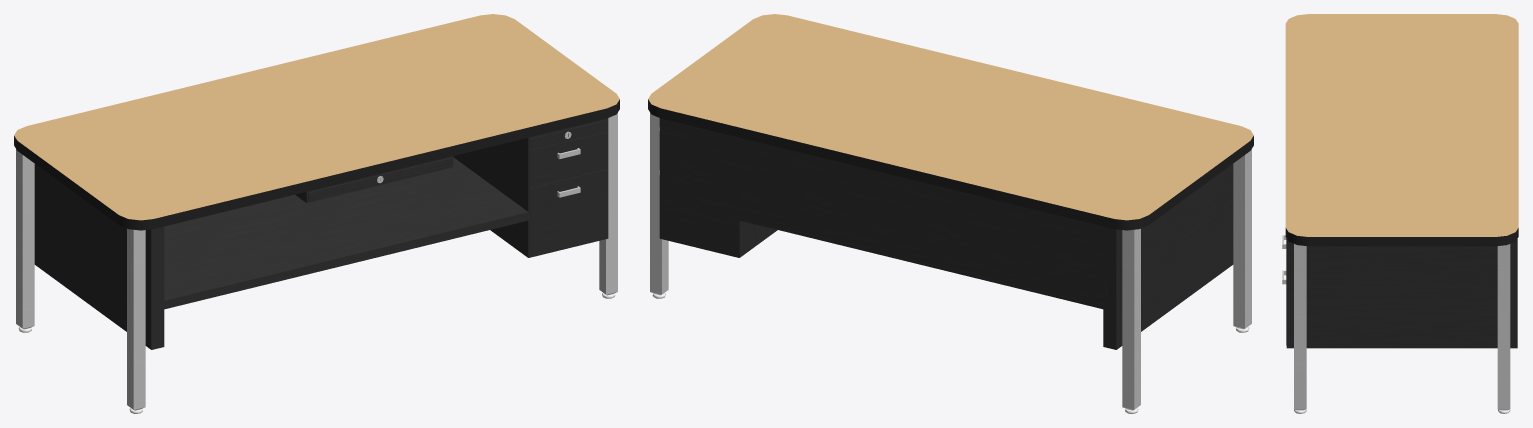
Rendered from desk.fbx.
3 views of the same model, side by side, from view 1: azimuth 30°, elevation 25°; view 2: azimuth 150°, elevation 25°; view 3: azimuth 270°, elevation 25° (orthographic). The views are drawn at different scales.
Visible parts, largest first — view 1: desk_lo; view 2: desk_lo; view 3: desk_lo.
Boxes of the visible parts, x1,y1,x2,y2 form: desk_lo: [14, 14, 619, 413]; desk_lo: [648, 14, 1253, 413]; desk_lo: [1282, 14, 1518, 413].
Bounding box in the file's own units: 3.39 × 1.28 × 1.52.
